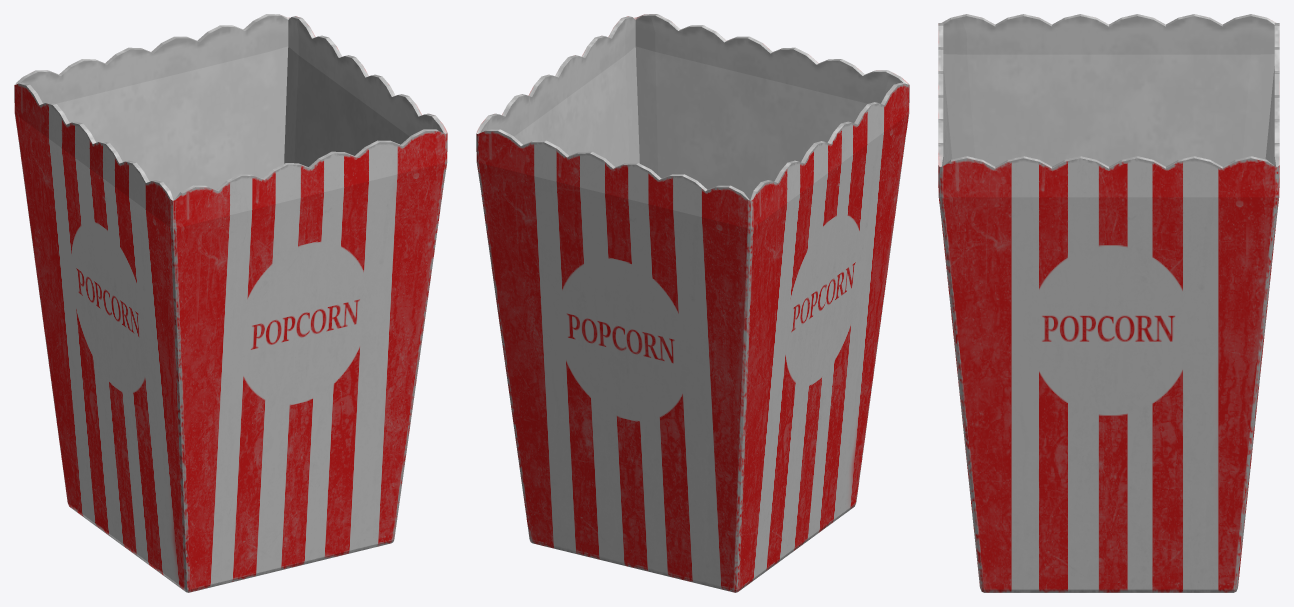
The model's file is Un_Cine_PaquetePalomita.fbx.
3 renders of one model, left to right at view 1: azimuth 30°, elevation 25°; view 2: azimuth 150°, elevation 25°; view 3: azimuth 270°, elevation 25°, orthographic. The views are drawn at different scales.
Visible parts, largest first — view 1: Cube; view 2: Cube; view 3: Cube.
Boxes of the visible parts, left/top/right/bottom form: Cube: left=14, top=14, right=447, bottom=592; Cube: left=476, top=14, right=909, bottom=592; Cube: left=938, top=14, right=1279, bottom=592.
Bounding box in the file's own units: 23.89 × 35.09 × 23.89.
Materials: 1 (1 with a texture image).
